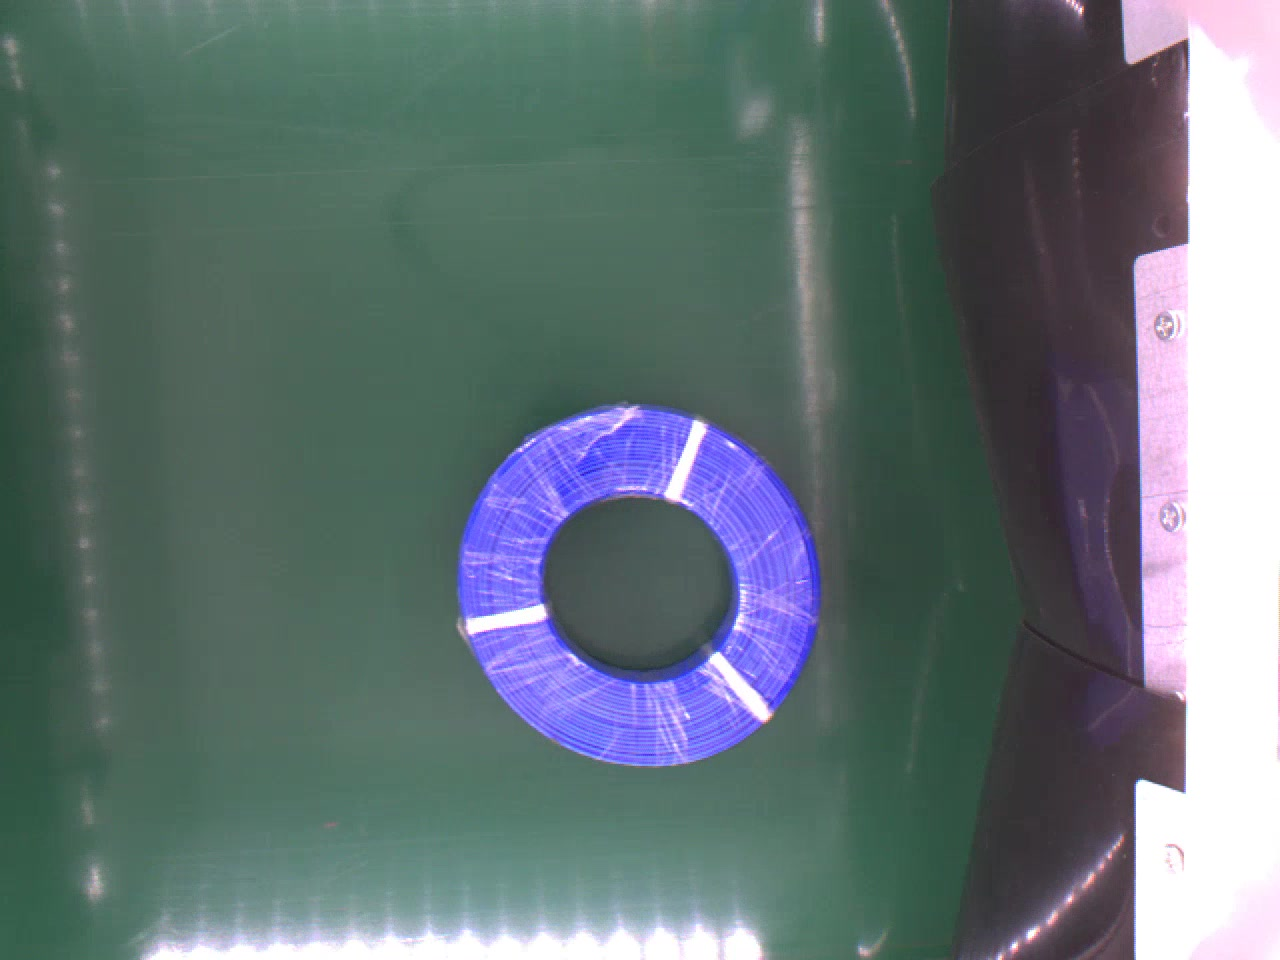blue: (452, 404, 827, 769)
